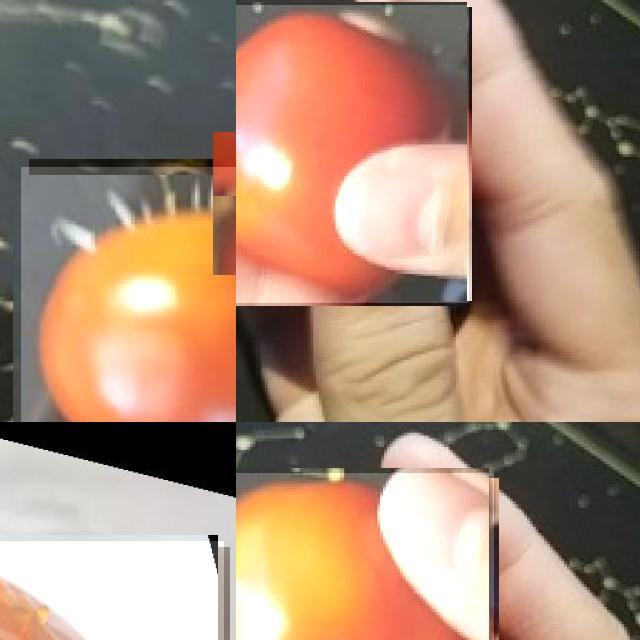Fresh Tomato: (236, 4, 469, 303), (20, 167, 236, 422), (236, 473, 493, 640)
Rotten Tomato: (0, 540, 223, 640)
